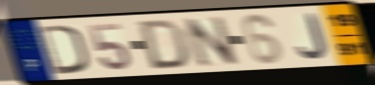5: (86, 22, 132, 71)
6: (239, 12, 287, 66)
D: (138, 18, 191, 71), (36, 23, 89, 76)
J: (295, 12, 330, 61)
N: (180, 14, 242, 69)
